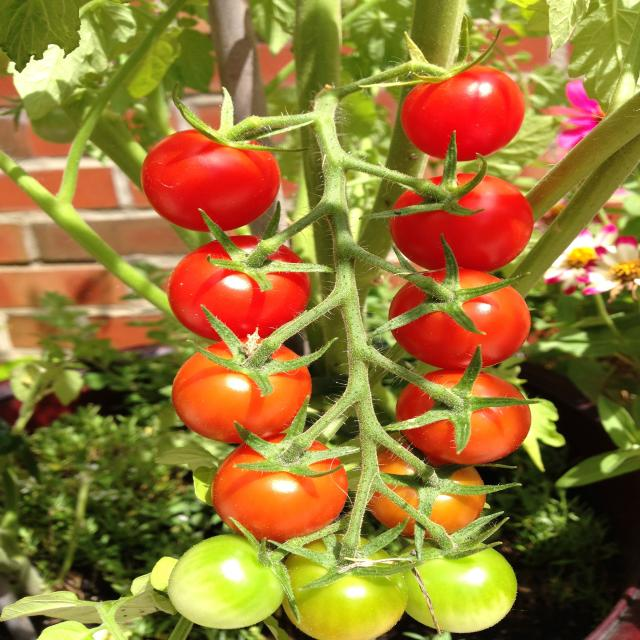level 2: (384, 534, 526, 638), (283, 540, 402, 638), (168, 537, 289, 630)
level 5: (215, 434, 346, 544), (170, 346, 312, 434), (400, 371, 530, 467), (367, 454, 484, 547)
level 6: (142, 128, 281, 239), (394, 176, 547, 273), (174, 242, 314, 343), (398, 270, 532, 371), (401, 62, 526, 154)
